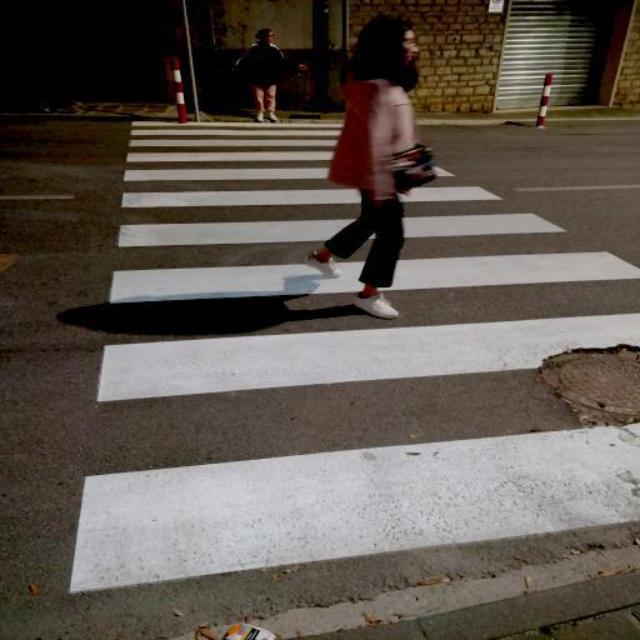sidewalk: (70, 119, 640, 595)
